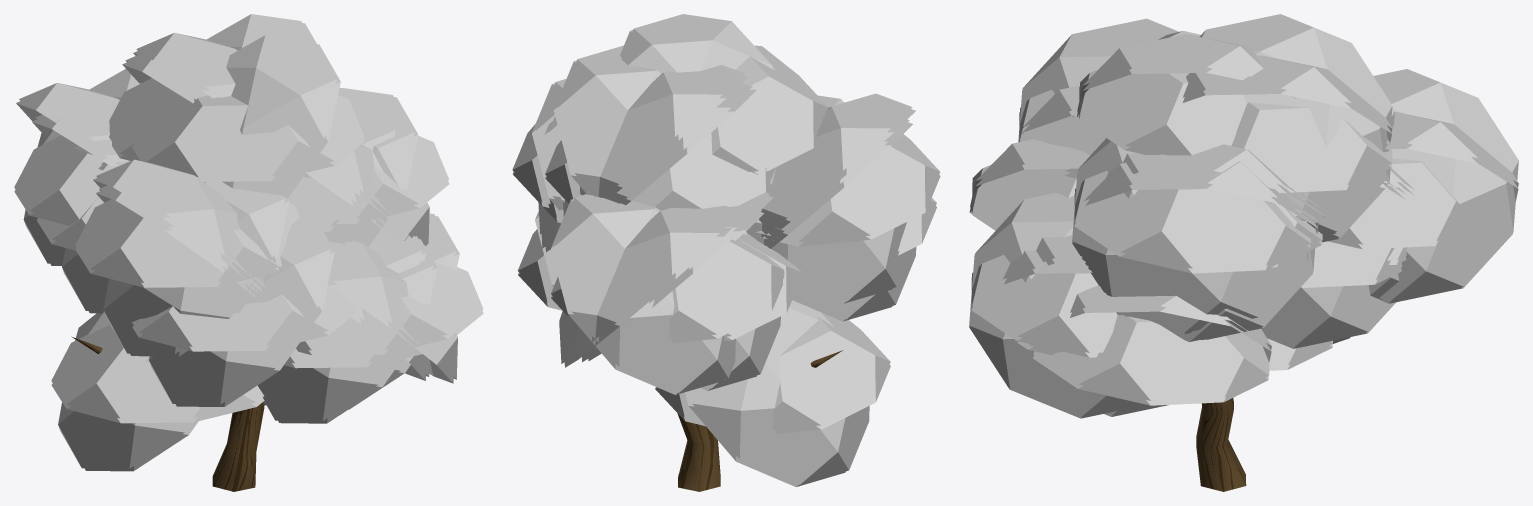
Rendered from Quercus Test 1.fbx.
3 views of the same model, side by side, from view 1: azimuth 30°, elevation 25°; view 2: azimuth 150°, elevation 25°; view 3: azimuth 270°, elevation 25° (orthographic). The views are drawn at different scales.
Parts seen in each view (by area): view 1: Icosphere.036; view 2: Icosphere.036; view 3: Icosphere.036.
Boxes of the visible parts, x1,y1,x2,y2 form: Icosphere.036: (14,14,483,491); Icosphere.036: (512,14,940,491); Icosphere.036: (969,14,1518,491).
Bounding box in the file's own units: 113 × 121 × 132.
